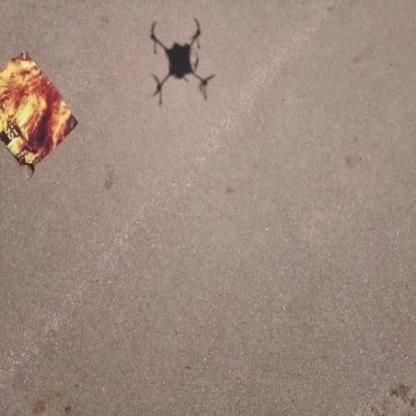fire-poster: (0, 49, 79, 176)
